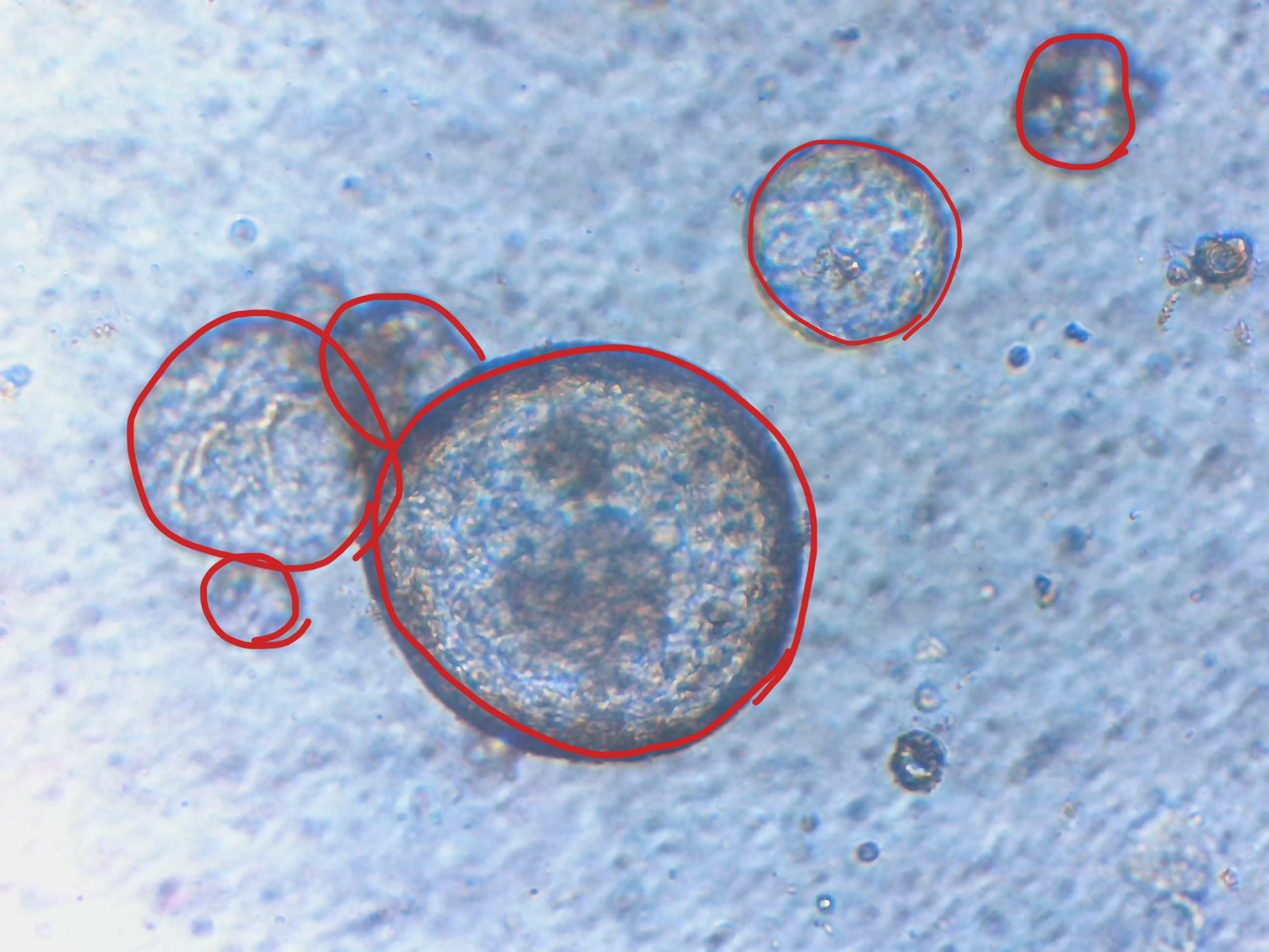organoid: (772, 439, 886, 544), (1179, 430, 1182, 487)
